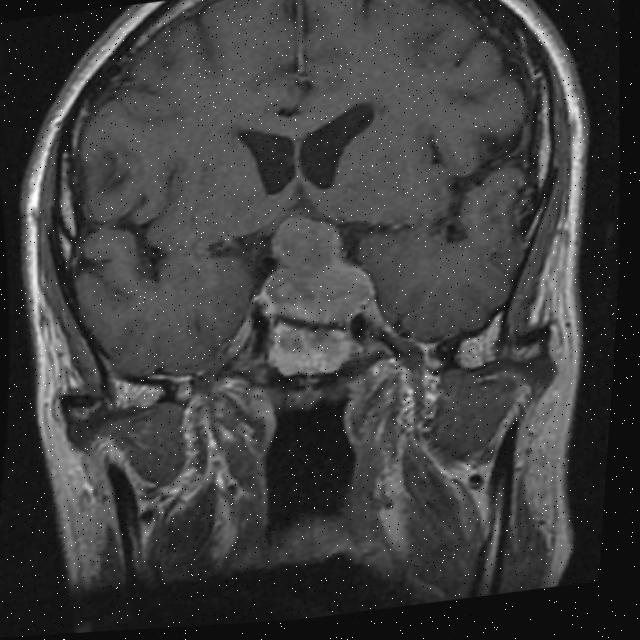Pituitary: (256, 205, 382, 330)
